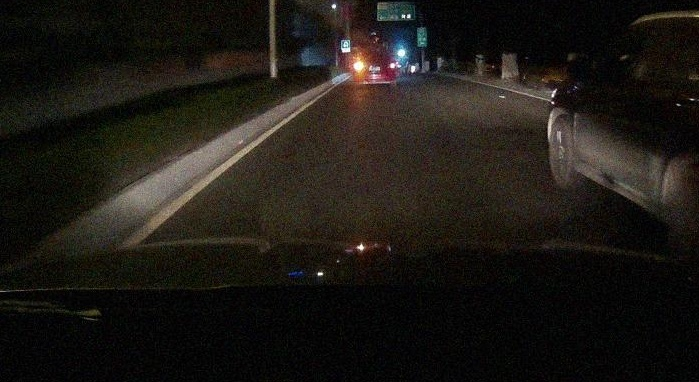L_light: (355, 63, 367, 68)
R_light: (385, 63, 396, 68)
T_light: (371, 54, 377, 56)
night-left: (354, 52, 397, 89)
